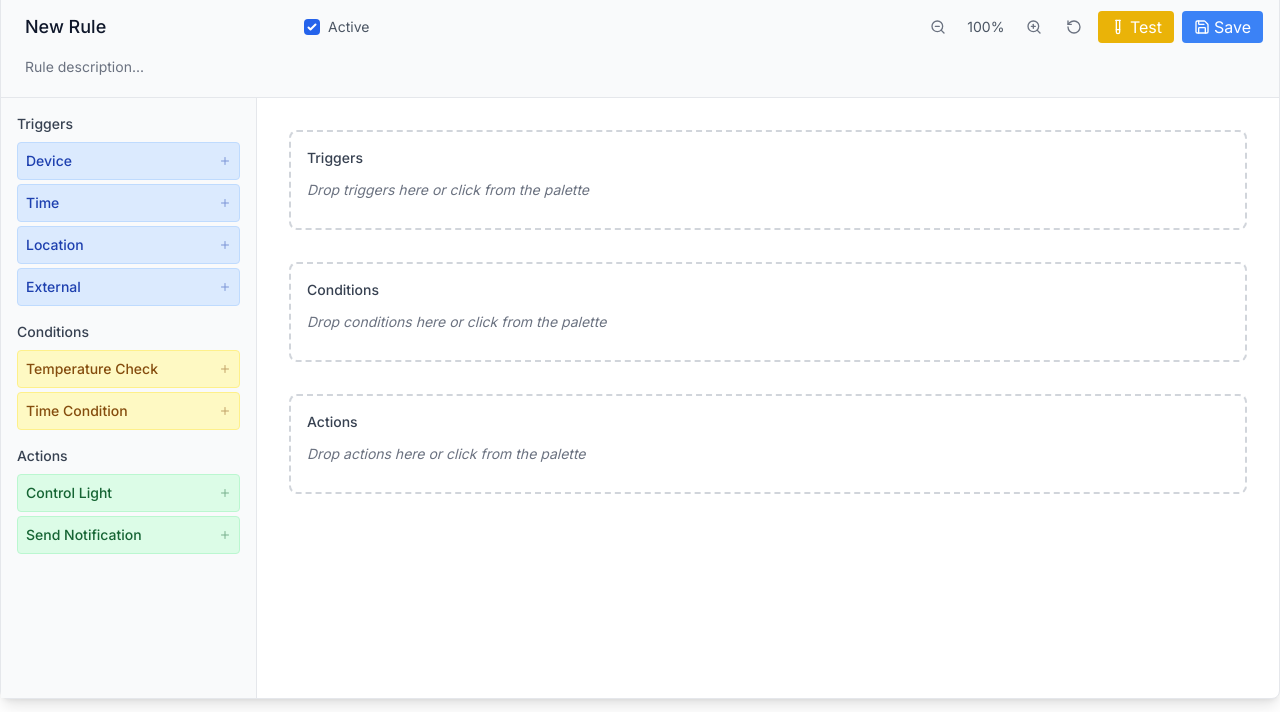
it: RuleBuilder Component › Rule Testing › handles test errors gracefully
Click the button "Test": point(1136, 27) [1098,11,1174,43]
(page scrolled)
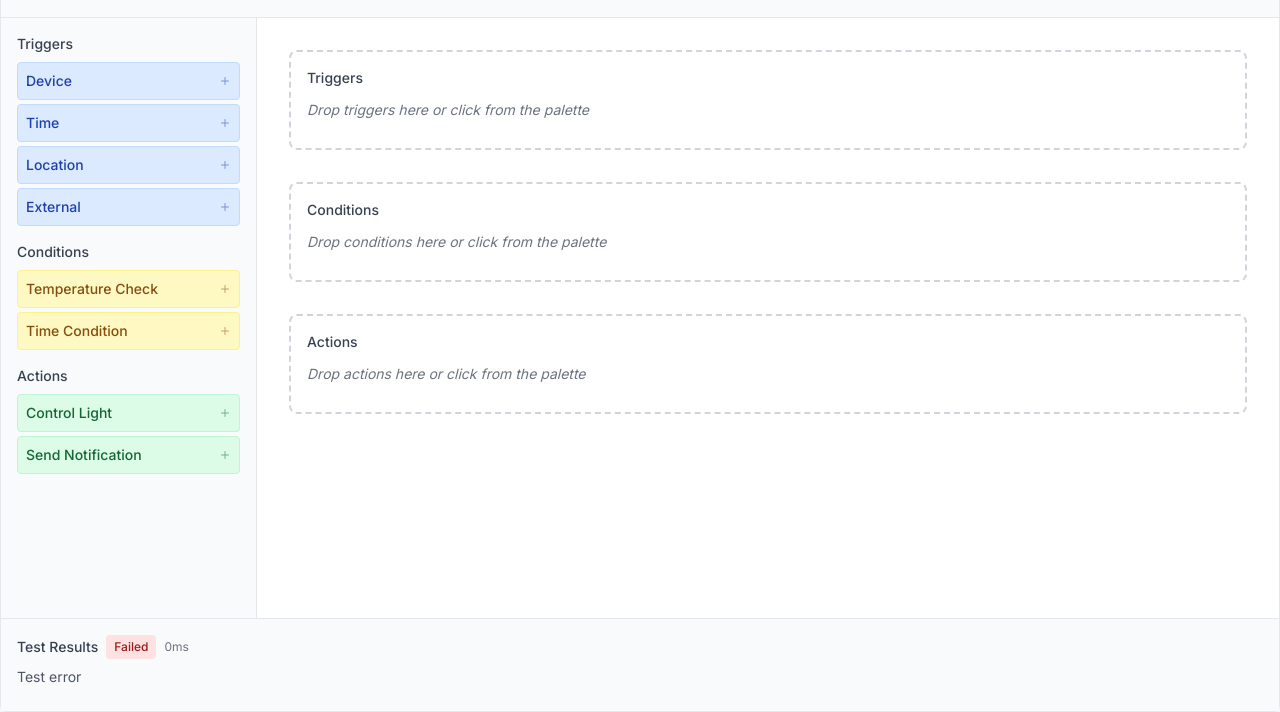
Expected: the text "Failed" is shown, [106,635,156,659]
Expected: the text "Test error" is shown, [17,668,81,685]
